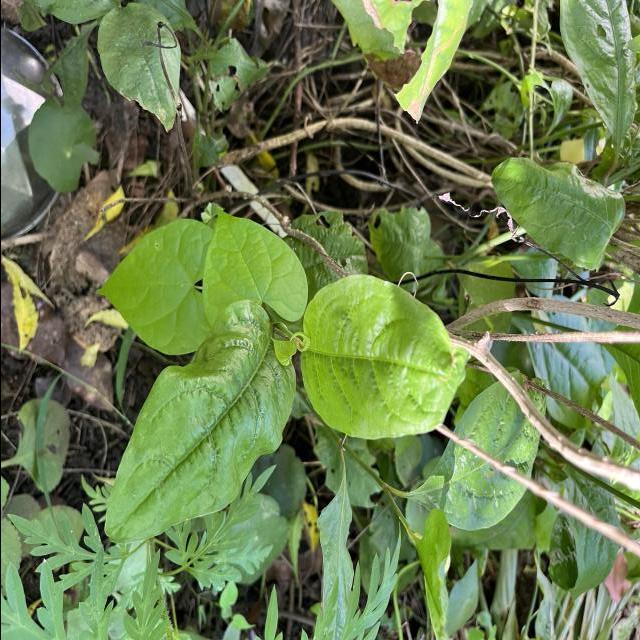Plumbago indica: (102, 294, 296, 548), (298, 270, 456, 442)
